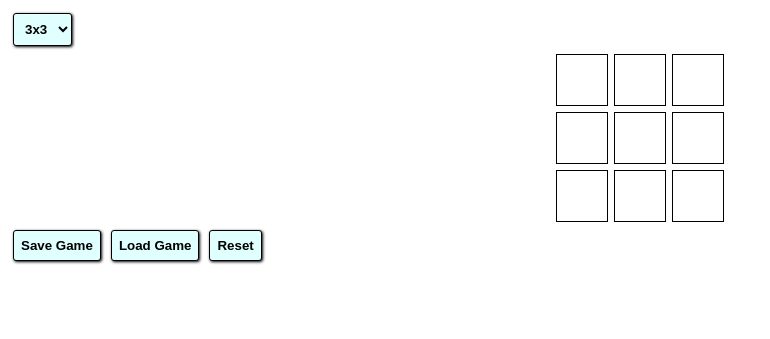
it: Board Component: › expect grid to change
Select "4x4" in the dropdown with test id "gridSelect" at (42, 30), box top-left (13, 13), bottom-right (72, 46)
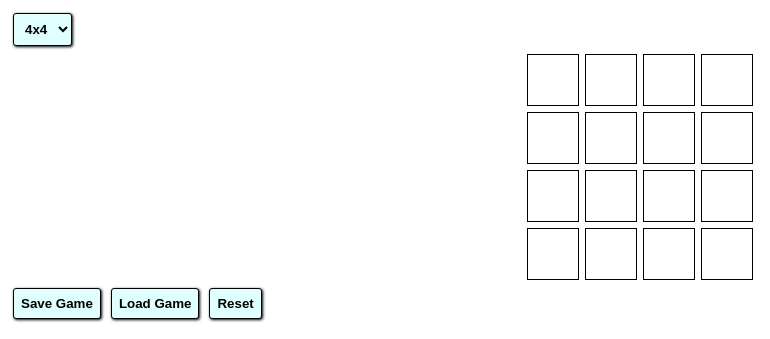
Check: the element with test id "3-3" is shown, box top-left (701, 228), bottom-right (753, 280)
